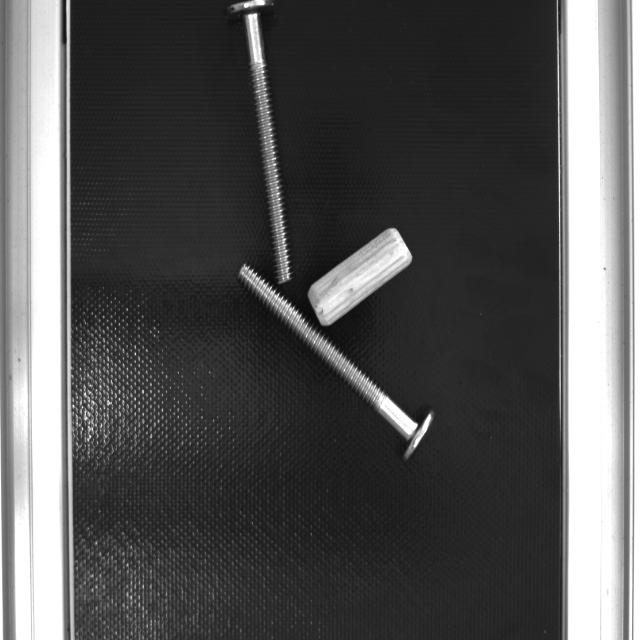Chot go: (306, 222, 416, 328)
bulon: (237, 261, 419, 442), (241, 12, 297, 287)
